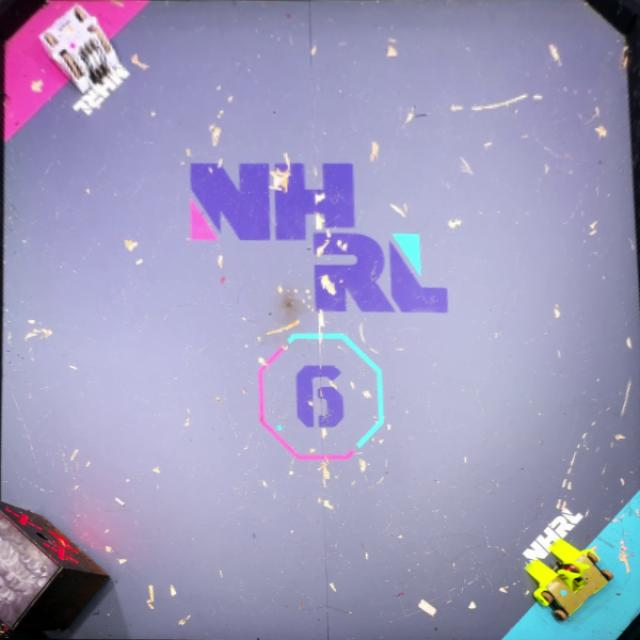housebot: (0, 496, 107, 640)
robot: (529, 535, 615, 622), (38, 3, 118, 92)
